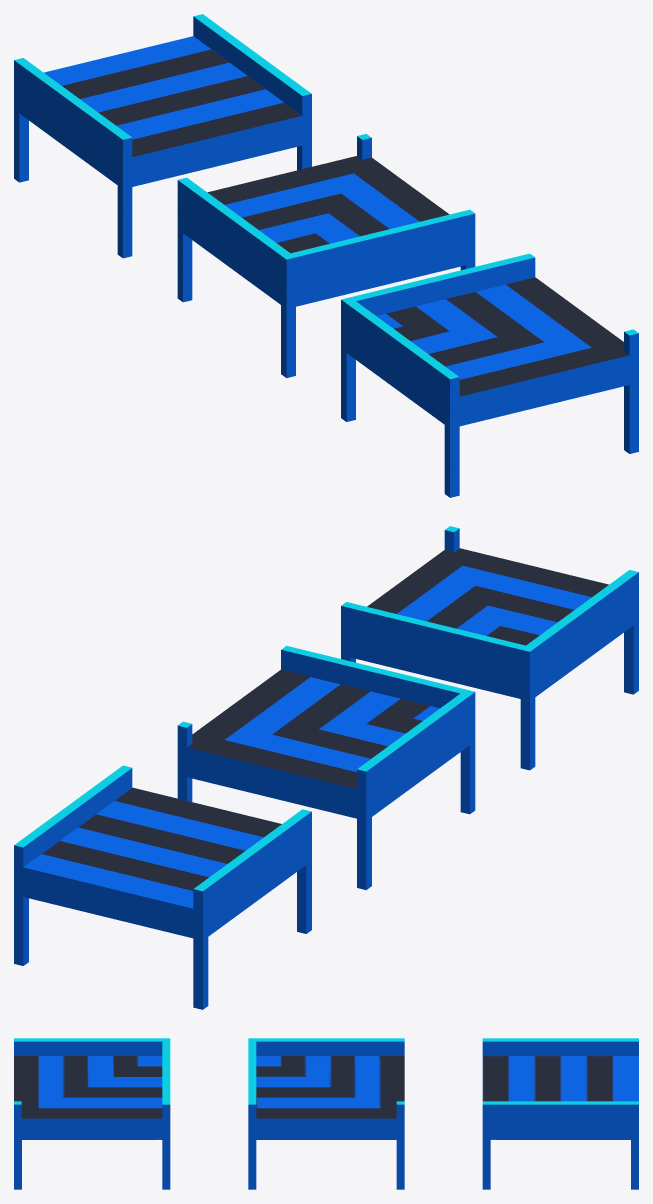
The model's file is Conveyors.fbx.
3 renders of one model, top to bottom at view 1: azimuth 30°, elevation 25°; view 2: azimuth 150°, elevation 25°; view 3: azimuth 270°, elevation 25°, orthographic. The views are drawn at different scales.
Parts seen in each view (by area): view 1: Conveyor.003, Conveyor.002, Conveyor.001; view 2: Conveyor.001, Conveyor.002, Conveyor.003; view 3: Conveyor.001, Conveyor.002, Conveyor.003.
Boxes of the visible parts, x1,y1,x2,y2 form: Conveyor.003: [341, 253, 638, 497]; Conveyor.002: [14, 14, 311, 258]; Conveyor.001: [177, 133, 475, 378]; Conveyor.001: [177, 645, 475, 890]; Conveyor.002: [14, 765, 311, 1009]; Conveyor.003: [341, 526, 638, 770]; Conveyor.001: [248, 1038, 404, 1189]; Conveyor.002: [482, 1038, 638, 1189]; Conveyor.003: [14, 1038, 170, 1189].
Size of the model in its own units: 200 by 120 by 800.
